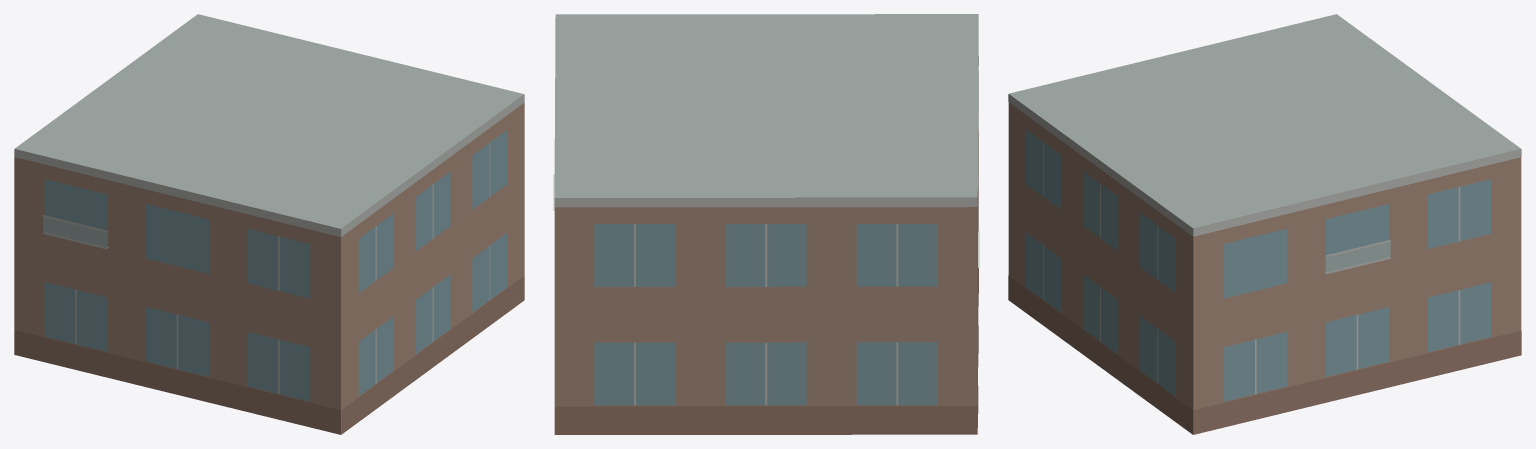
Rendered from survey-upis-32922622.glb.
The picture shows the model from 3 angles, left to right: view 1: azimuth 30°, elevation 25°; view 2: azimuth 150°, elevation 25°; view 3: azimuth 270°, elevation 25°; orthographic projection. The views are drawn at different scales.
Parts seen in each view (by area): view 1: survey-upis-32922622.tmp; view 2: survey-upis-32922622.tmp; view 3: survey-upis-32922622.tmp.
Part boxes in pixels (left/top/right/bottom): survey-upis-32922622.tmp: left=14, top=14, right=524, bottom=434; survey-upis-32922622.tmp: left=553, top=14, right=979, bottom=434; survey-upis-32922622.tmp: left=1008, top=14, right=1521, bottom=434.
Size of the model in its own units: 13.61 by 6.1 by 13.75.
